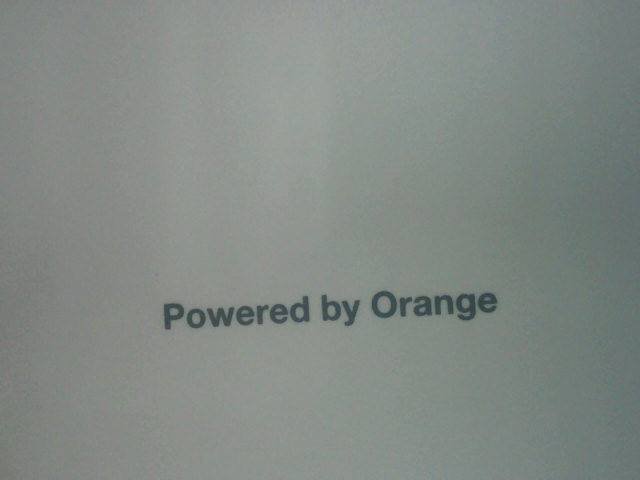AS_PowerByOrange: (145, 276, 510, 337)
